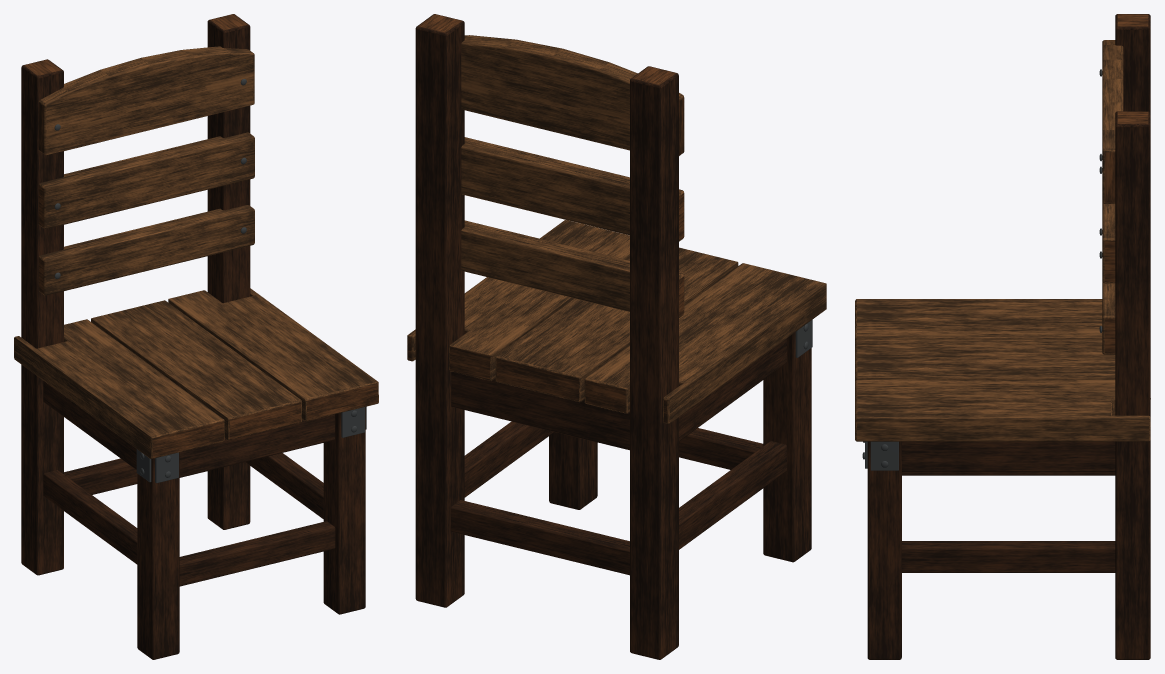
The picture shows the model from 3 angles, left to right: view 1: azimuth 30°, elevation 25°; view 2: azimuth 150°, elevation 25°; view 3: azimuth 270°, elevation 25°; orthographic projection. The views are drawn at different scales.
Parts seen in each view (by area): view 1: FT_003_leg_rear_post_left, FT_003_back_slat_crown, FT_003_seat_plank_left, FT_003_seat_plank_center, FT_003_seat_plank_right, FT_003_back_slat_middle, FT_003_back_slat_low, FT_003_leg_rear_post_right, FT_003_leg_front_left, FT_003_leg_front_right, FT_003_low_stretcher_front, FT_003_apron_front (+6 smaller); view 2: FT_003_leg_rear_post_left, FT_003_leg_rear_post_right, FT_003_seat_plank_left, FT_003_back_slat_crown, FT_003_seat_plank_center, FT_003_back_slat_middle, FT_003_back_slat_low, FT_003_leg_front_left, FT_003_seat_plank_right, FT_003_apron_rear, FT_003_low_stretcher_rear, FT_003_low_stretcher_left (+4 smaller); view 3: FT_003_leg_rear_post_right, FT_003_seat_plank_right, FT_003_seat_plank_center, FT_003_seat_plank_left, FT_003_leg_front_right, FT_003_low_stretcher_right, FT_003_apron_right, FT_003_leg_rear_post_left, FT_003_back_slat_crown, FT_003_back_slat_middle, FT_003_back_slat_low, FT_003_low_stretcher_left (+1 smaller).
Boxes of the visible parts, x1=… form: FT_003_leg_rear_post_left: x1=21, y1=59, x2=63, y2=575; FT_003_back_slat_crown: x1=38, y1=46, x2=254, y2=155; FT_003_seat_plank_left: x1=14, y1=319, x2=224, y2=458; FT_003_seat_plank_center: x1=91, y1=300, x2=301, y2=440; FT_003_seat_plank_right: x1=168, y1=288, x2=378, y2=421; FT_003_back_slat_middle: x1=38, y1=132, x2=254, y2=228; FT_003_back_slat_low: x1=38, y1=205, x2=254, y2=295; FT_003_leg_rear_post_right: x1=207, y1=14, x2=250, y2=529; FT_003_leg_front_left: x1=137, y1=452, x2=179, y2=659; FT_003_leg_front_right: x1=323, y1=407, x2=365, y2=614; FT_003_low_stretcher_front: x1=179, y1=521, x2=335, y2=586; FT_003_apron_front: x1=179, y1=414, x2=334, y2=477; FT_003_leg_rear_post_left: x1=630, y1=66, x2=678, y2=659; FT_003_leg_rear_post_right: x1=415, y1=14, x2=464, y2=607; FT_003_seat_plank_left: x1=584, y1=263, x2=826, y2=423; FT_003_back_slat_crown: x1=461, y1=35, x2=684, y2=155; FT_003_seat_plank_center: x1=495, y1=247, x2=738, y2=402; FT_003_back_slat_middle: x1=461, y1=137, x2=684, y2=241; FT_003_back_slat_low: x1=461, y1=220, x2=684, y2=317; FT_003_leg_front_left: x1=763, y1=332, x2=811, y2=562; FT_003_seat_plank_right: x1=407, y1=220, x2=629, y2=380; FT_003_apron_rear: x1=451, y1=371, x2=629, y2=450; FT_003_low_stretcher_rear: x1=451, y1=500, x2=629, y2=575; FT_003_low_stretcher_left: x1=679, y1=441, x2=786, y2=549; FT_003_leg_rear_post_right: x1=1115, y1=111, x2=1150, y2=659; FT_003_seat_plank_right: x1=855, y1=379, x2=1150, y2=441; FT_003_seat_plank_center: x1=855, y1=339, x2=1115, y2=381; FT_003_seat_plank_left: x1=855, y1=299, x2=1102, y2=340; FT_003_leg_front_right: x1=867, y1=441, x2=901, y2=659; FT_003_low_stretcher_right: x1=902, y1=541, x2=1115, y2=572; FT_003_apron_right: x1=902, y1=441, x2=1115, y2=471; FT_003_leg_rear_post_left: x1=1115, y1=14, x2=1150, y2=112; FT_003_back_slat_crown: x1=1102, y1=40, x2=1123, y2=203; FT_003_back_slat_middle: x1=1102, y1=203, x2=1115, y2=283; FT_003_back_slat_low: x1=1102, y1=282, x2=1115, y2=354; FT_003_low_stretcher_left: x1=902, y1=472, x2=1115, y2=475.
Size of the model in its own units: 0.4783 by 1 by 0.5003.
Materials: 4 (3 with a texture image).
